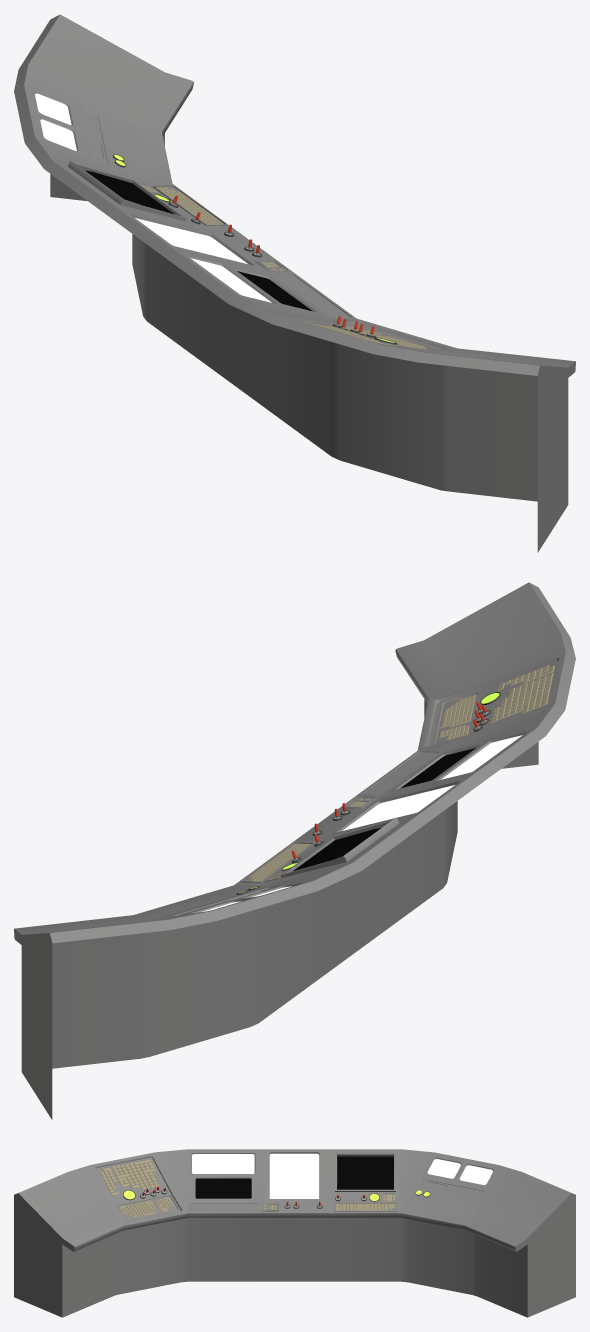
Rendered from Room_ControlRoom_ControlPanel.fbx.
3 views of the same model, one above another, from view 1: azimuth 30°, elevation 25°; view 2: azimuth 150°, elevation 25°; view 3: azimuth 270°, elevation 25° (orthographic). The views are drawn at different scales.
Visible parts, largest first — view 1: control panel; view 2: control panel; view 3: control panel.
Part boxes in pixels (x1,y1,x2,y2): control panel: (14,14,575,552); control panel: (14,582,575,1119); control panel: (14,1149,575,1317).
Bounding box in the file's own units: 134 × 94.58 × 455.
